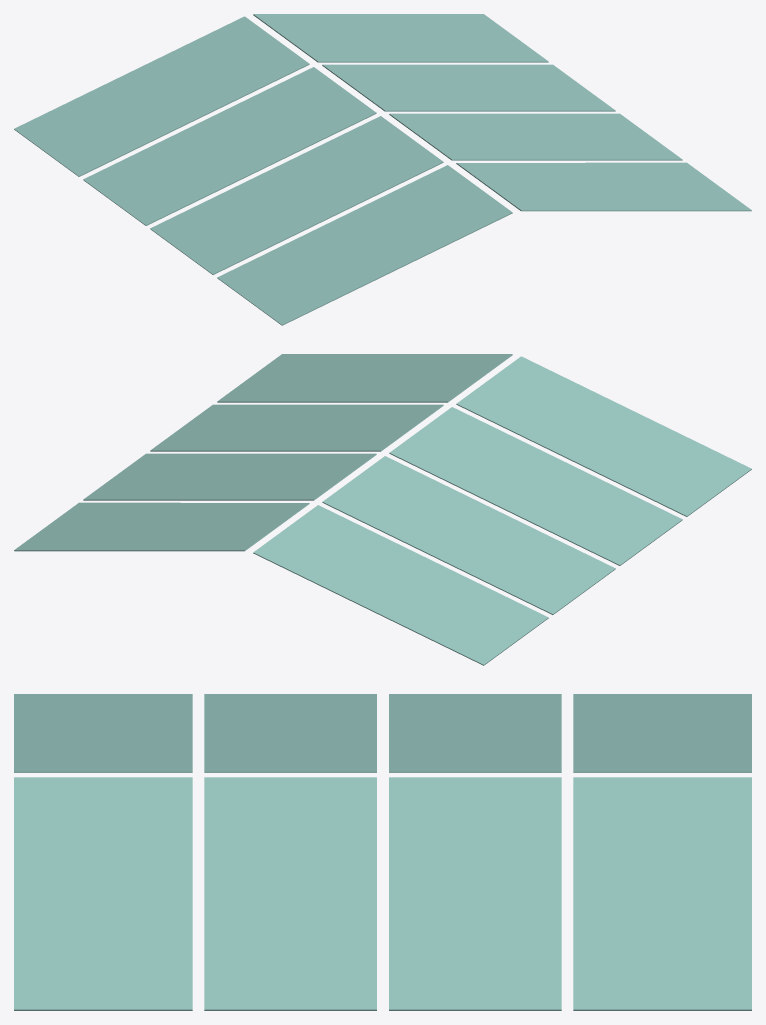
File: WIN_kitchen_skylight.FBX
3 views of the same model, one above another, from view 1: azimuth 30°, elevation 25°; view 2: azimuth 150°, elevation 25°; view 3: azimuth 270°, elevation 25° (orthographic). The views are drawn at different scales.
Parts seen in each view (by area): view 1: WIN_kitchen_skylight; view 2: WIN_kitchen_skylight; view 3: WIN_kitchen_skylight.
Part boxes in pixels (x1=…): WIN_kitchen_skylight: x1=14, y1=14, x2=751, y2=325; WIN_kitchen_skylight: x1=14, y1=354, x2=751, y2=665; WIN_kitchen_skylight: x1=14, y1=694, x2=751, y2=1010.
Bounding box in the file's own units: 505 × 499 × 58.75.
